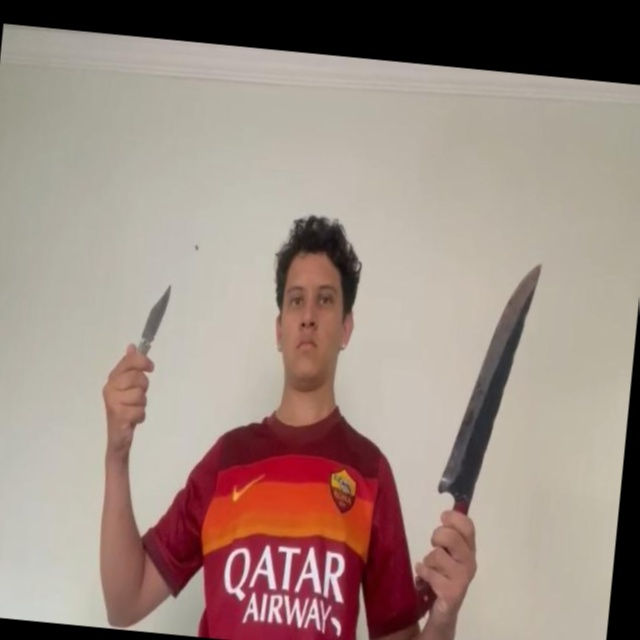Sharp-Object: (435, 253, 544, 501), (139, 281, 174, 351)
